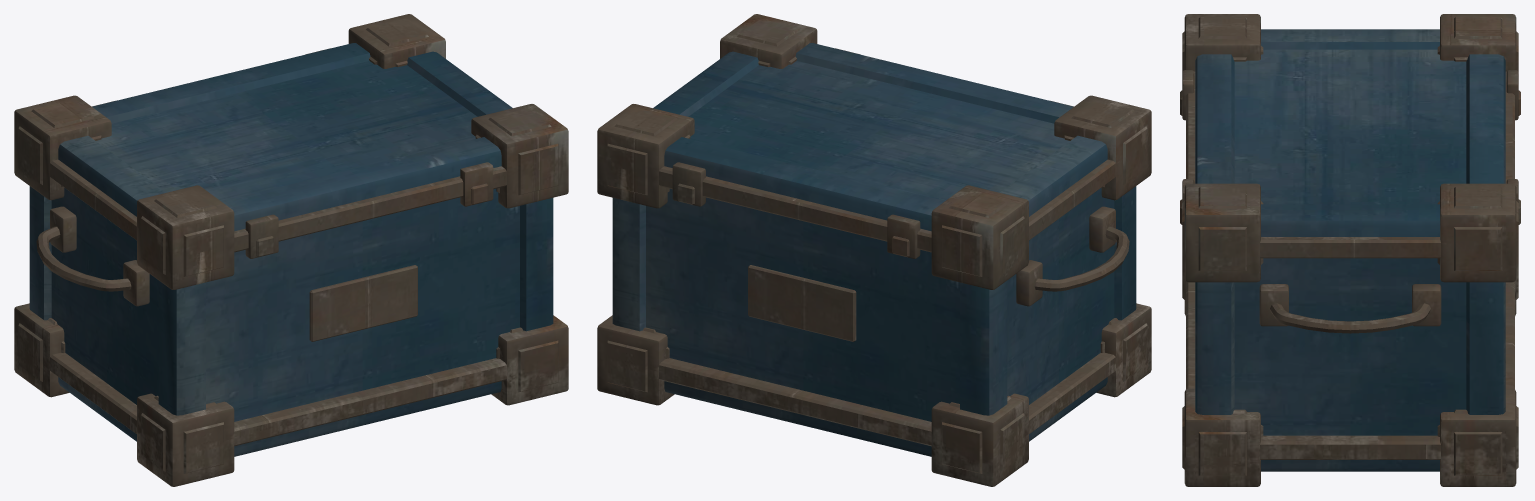
File: sci-fi-supply-crate_final.glb
3 views of the same model, side by side, from view 1: azimuth 30°, elevation 25°; view 2: azimuth 150°, elevation 25°; view 3: azimuth 270°, elevation 25° (orthographic). The views are drawn at different scales.
Parts seen in each view (by area): view 1: SM_SciFiCrate_Body, SM_SciFiCrate_Corners, SM_SciFiCrate_Bands, SM_SciFiCrate_Details, SM_SciFiCrate_Handles; view 2: SM_SciFiCrate_Body, SM_SciFiCrate_Corners, SM_SciFiCrate_Bands, SM_SciFiCrate_Details, SM_SciFiCrate_Handles; view 3: SM_SciFiCrate_Body, SM_SciFiCrate_Corners, SM_SciFiCrate_Bands, SM_SciFiCrate_Handles, SM_SciFiCrate_Details.
Boxes of the visible parts, x1,y1,x2,y2 form: SM_SciFiCrate_Body: (29,43,553,456); SM_SciFiCrate_Corners: (14,14,568,486); SM_SciFiCrate_Bands: (50,159,506,446); SM_SciFiCrate_Details: (92,48,493,341); SM_SciFiCrate_Handles: (36,206,149,306); SM_SciFiCrate_Body: (612,43,1136,456); SM_SciFiCrate_Corners: (597,14,1151,486); SM_SciFiCrate_Bands: (659,159,1115,446); SM_SciFiCrate_Details: (672,48,1073,341); SM_SciFiCrate_Handles: (1016,206,1129,306); SM_SciFiCrate_Body: (1195,29,1505,471); SM_SciFiCrate_Corners: (1182,14,1518,486); SM_SciFiCrate_Bands: (1186,71,1514,459); SM_SciFiCrate_Handles: (1259,284,1441,333); SM_SciFiCrate_Details: (1180,70,1520,224).
Bounding box in the file's own units: 0.9875 × 0.524 × 0.582.
Materials: 2 (2 with a texture image).
